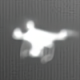plane: (10, 17, 79, 65)
